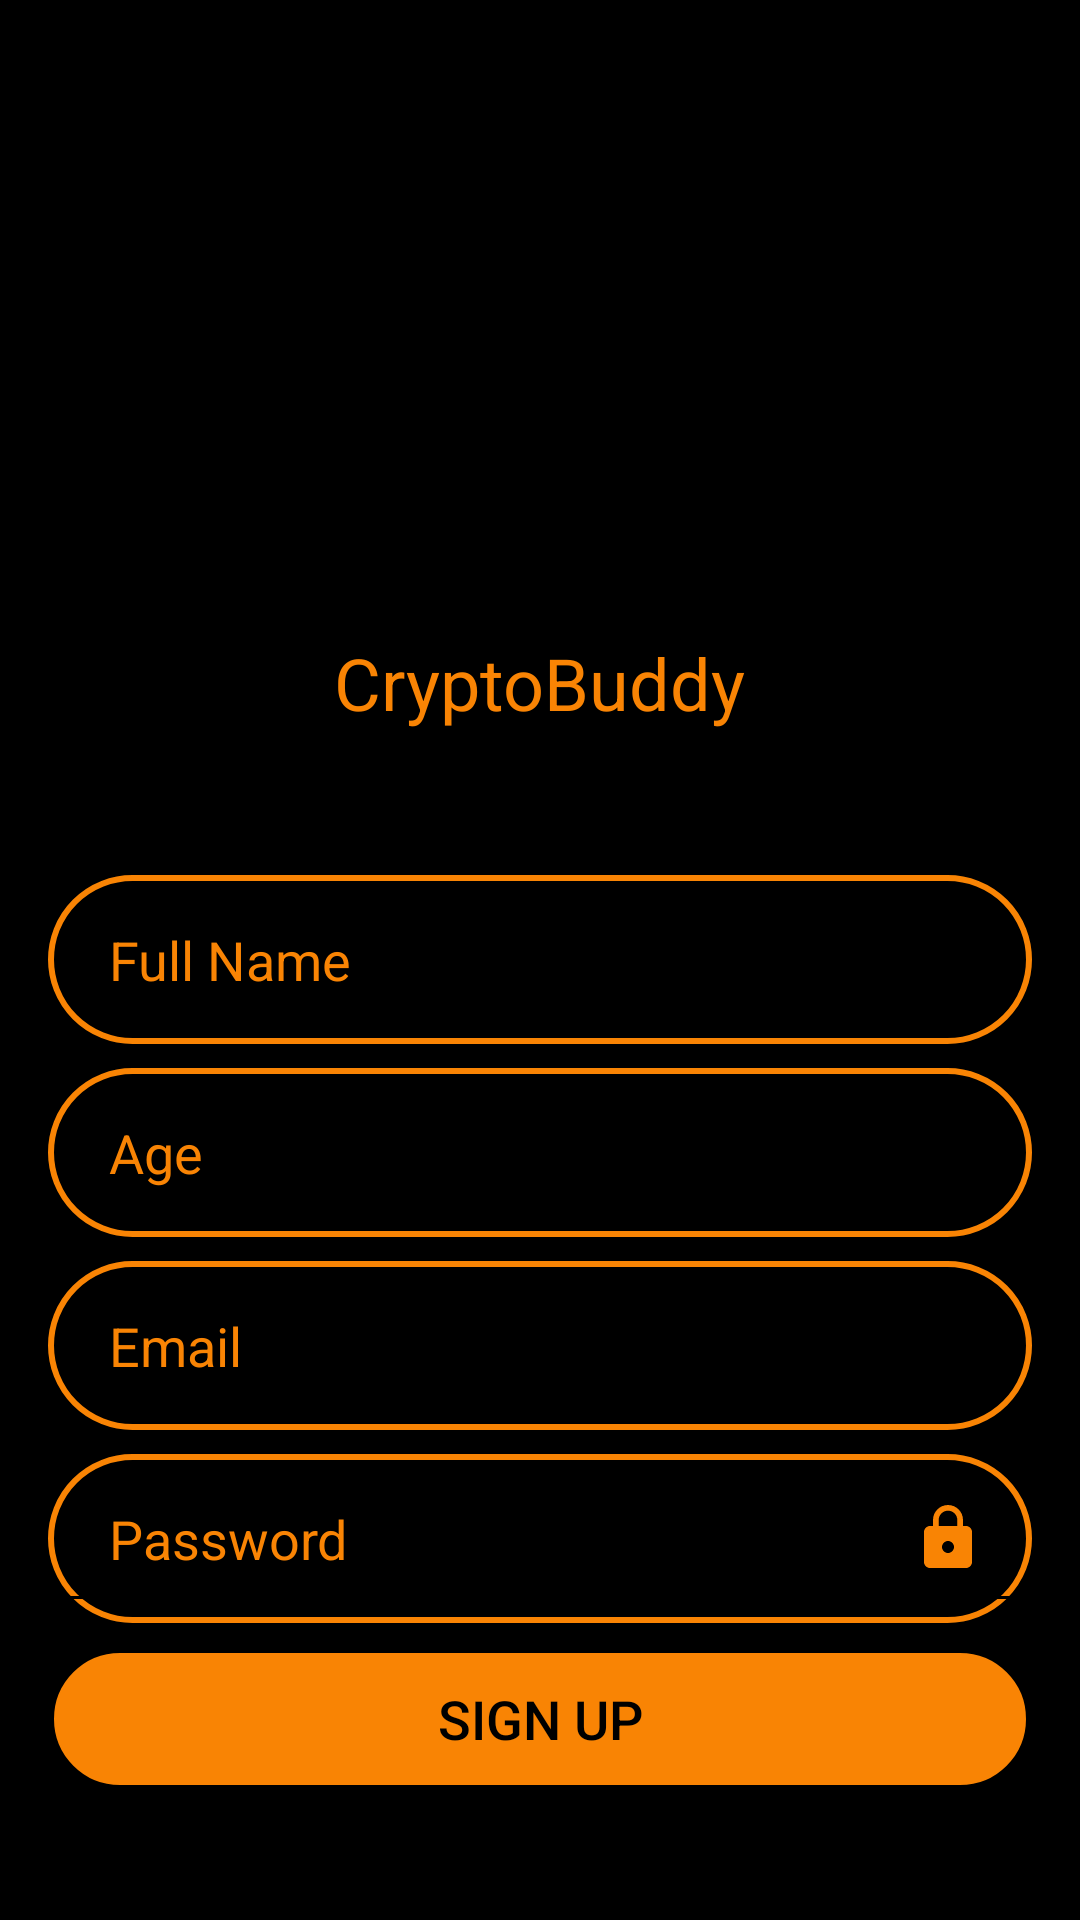

Icon click points for this 1080x1920 phone screenshot, format (x,y):
lock: (948,1536)
